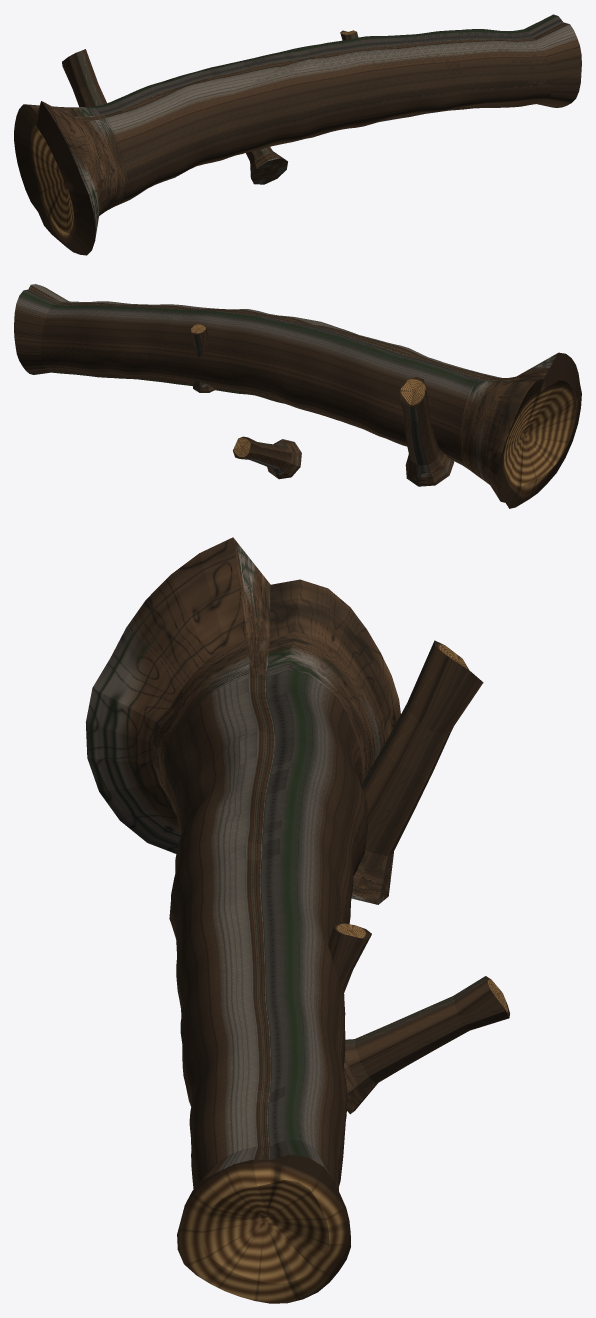
Rendered from Totholz_3.fbx.
3 views of the same model, one above another, from view 1: azimuth 30°, elevation 25°; view 2: azimuth 150°, elevation 25°; view 3: azimuth 270°, elevation 25° (orthographic). The views are drawn at different scales.
Parts seen in each view (by area): view 1: Totholz_3; view 2: Totholz_3; view 3: Totholz_3.
Boxes of the visible parts, <box> form: Totholz_3: <box>14,14,581,255</box>; Totholz_3: <box>14,284,581,508</box>; Totholz_3: <box>85,537,509,1303</box>.
Bounding box in the file's own units: 2.94 × 0.8776 × 1.02.
